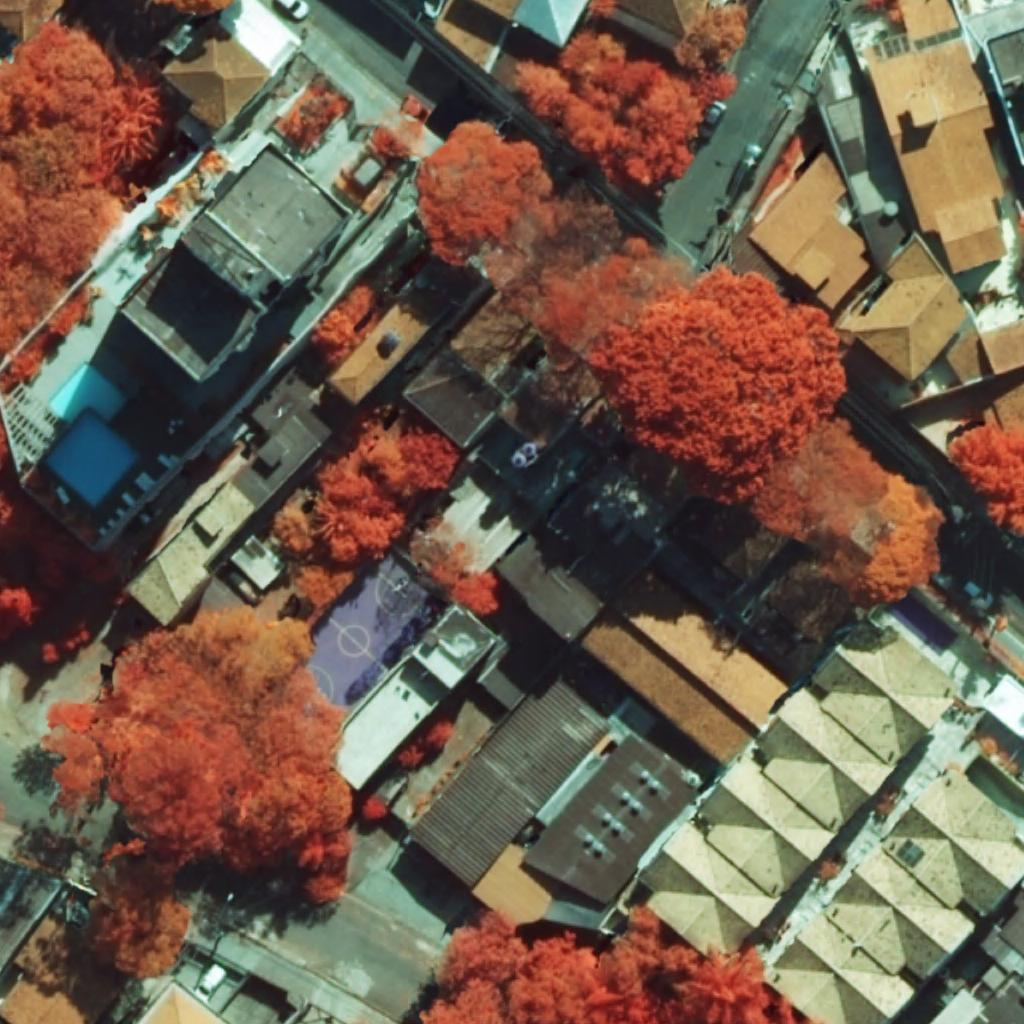pool: (45, 412, 141, 508), (48, 362, 127, 424)
